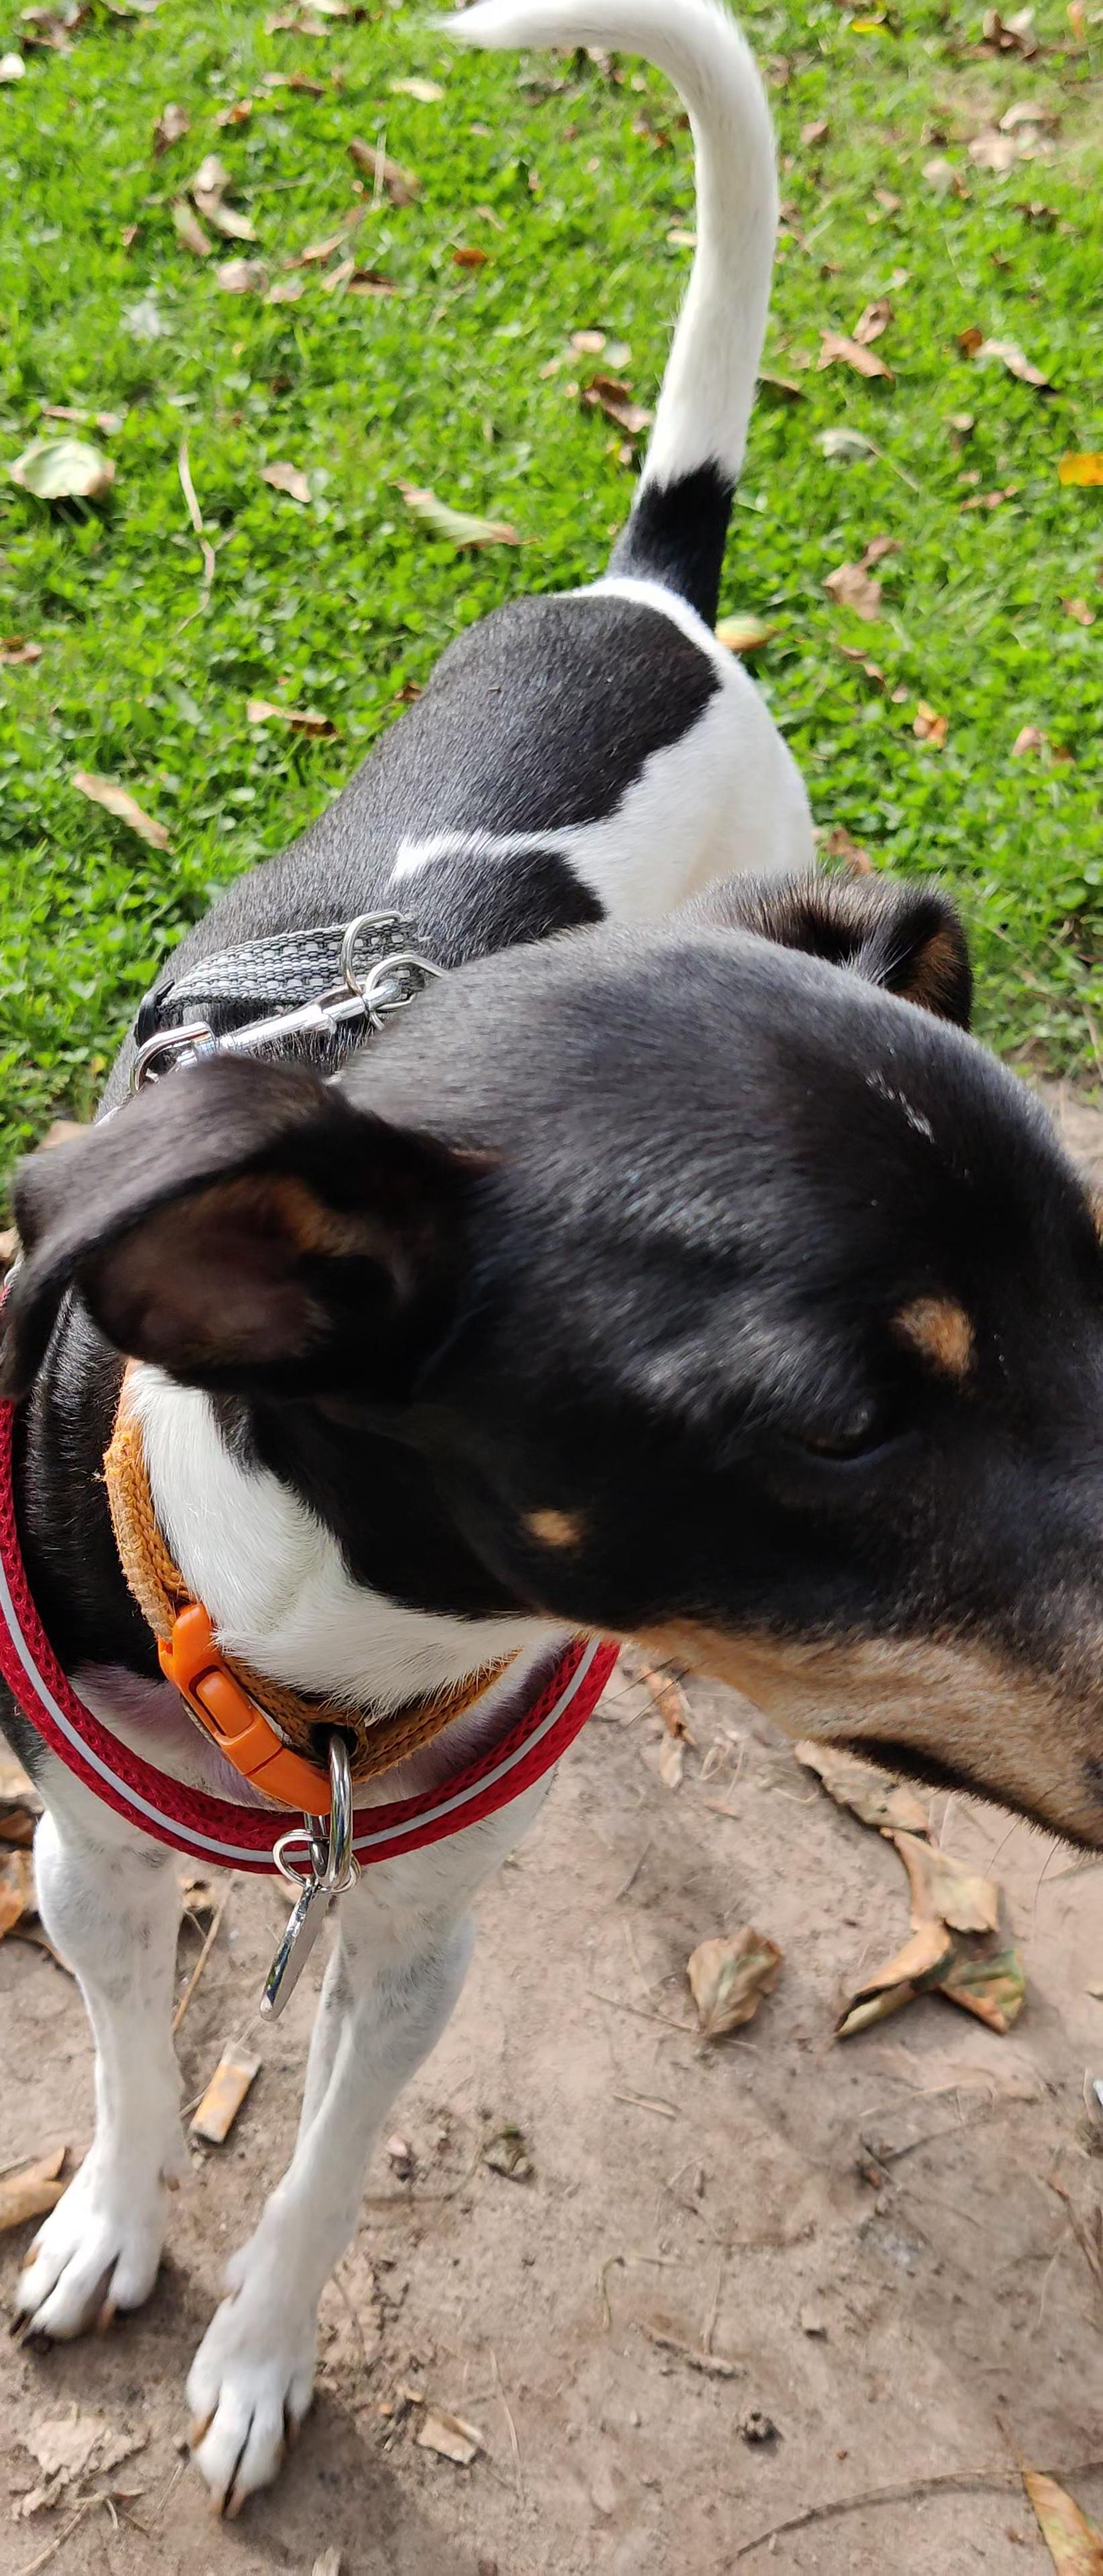Dog: (0, 0, 1103, 2520)
